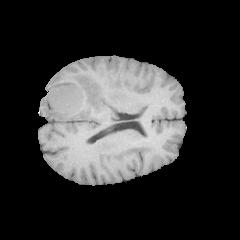glioma: (42, 73, 108, 120)
